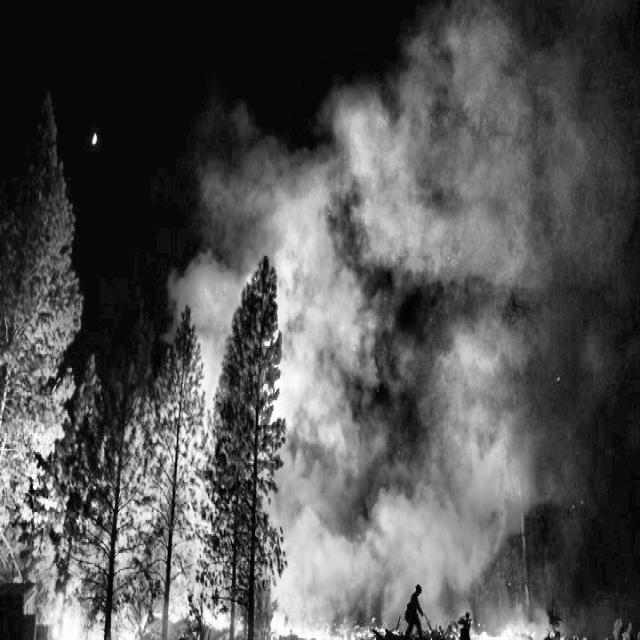fire: (6, 503, 550, 640)
